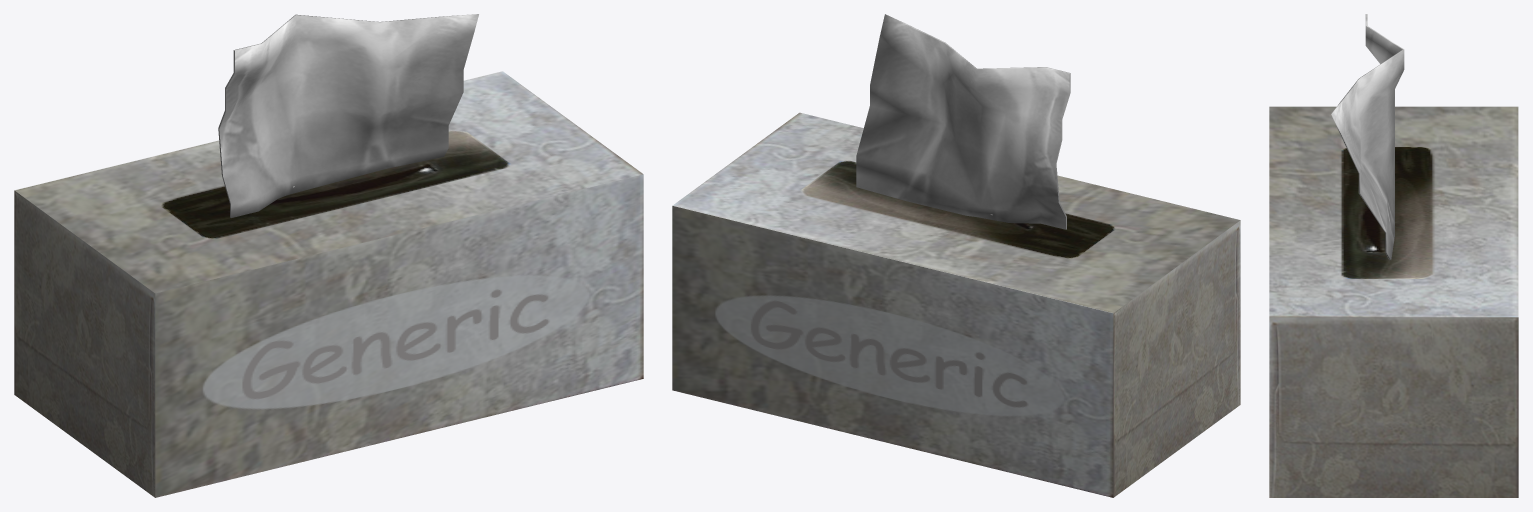
Rendered from Tissue Box_lod3.fbx.
3 views of the same model, side by side, from view 1: azimuth 30°, elevation 25°; view 2: azimuth 150°, elevation 25°; view 3: azimuth 270°, elevation 25° (orthographic). The views are drawn at different scales.
Visible parts, largest first — view 1: Tissue_Box; view 2: Tissue_Box; view 3: Tissue_Box.
Part boxes in pixels (x1,y1,x2,y2): Tissue_Box: [14, 14, 643, 497]; Tissue_Box: [672, 14, 1240, 497]; Tissue_Box: [1269, 14, 1518, 497].
Size of the model in its own units: 5 by 3.66 by 2.5.
